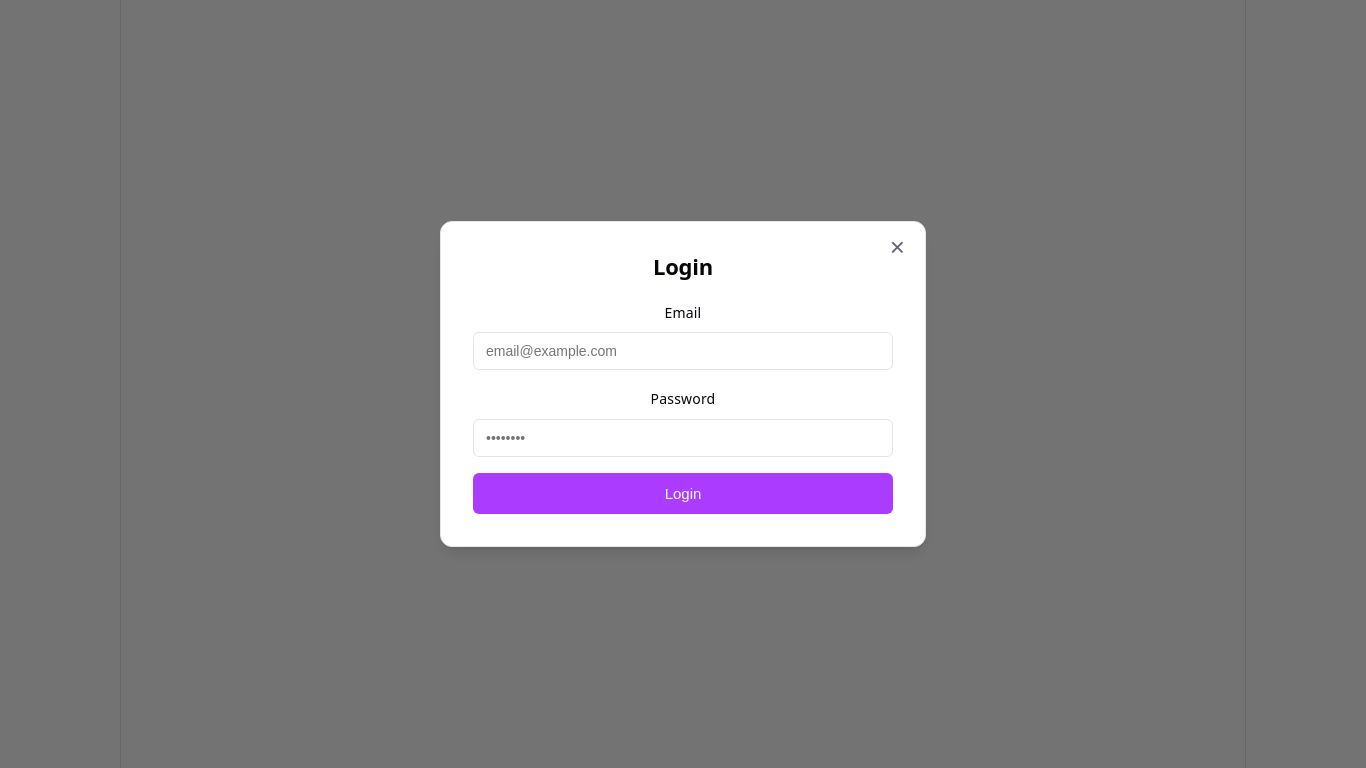
it: AuthModal — login mode › shows error message on login failure
The width and height of the screenshot is (1366, 768).
Type "a@b.com" into the field labelled "Email" at (683, 352), box [473, 332, 893, 370]
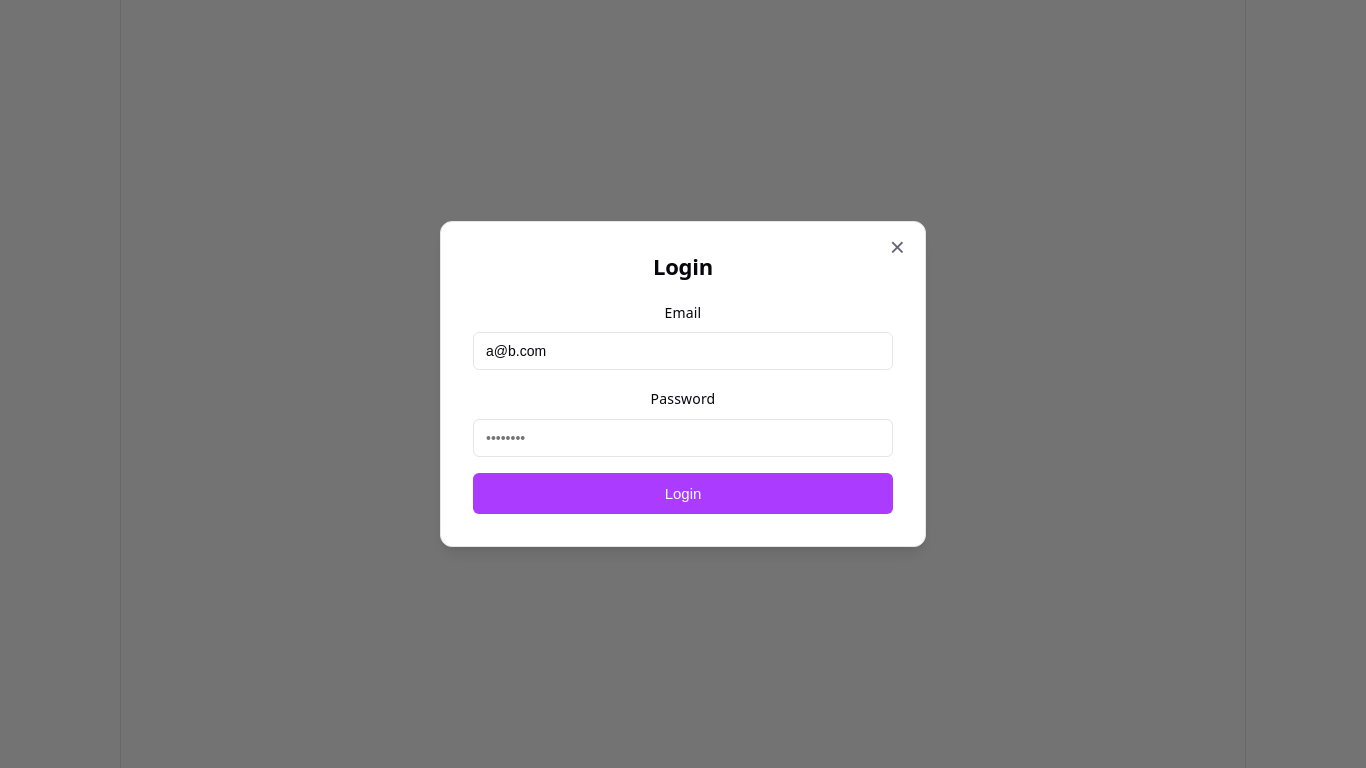
Type "wrong" into the password field labelled "Password" at (683, 438), box [473, 419, 893, 457]
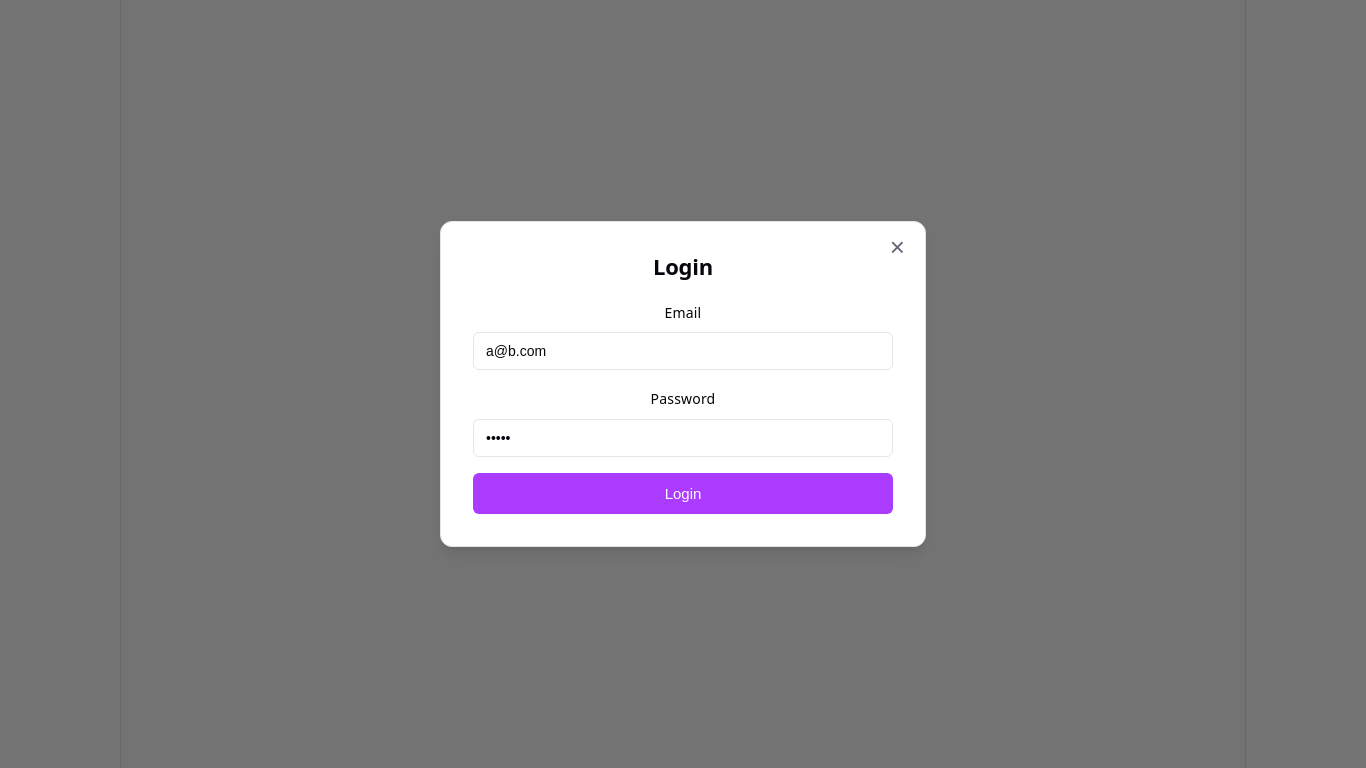
Click the button "Login" at (683, 493), box [473, 473, 893, 514]
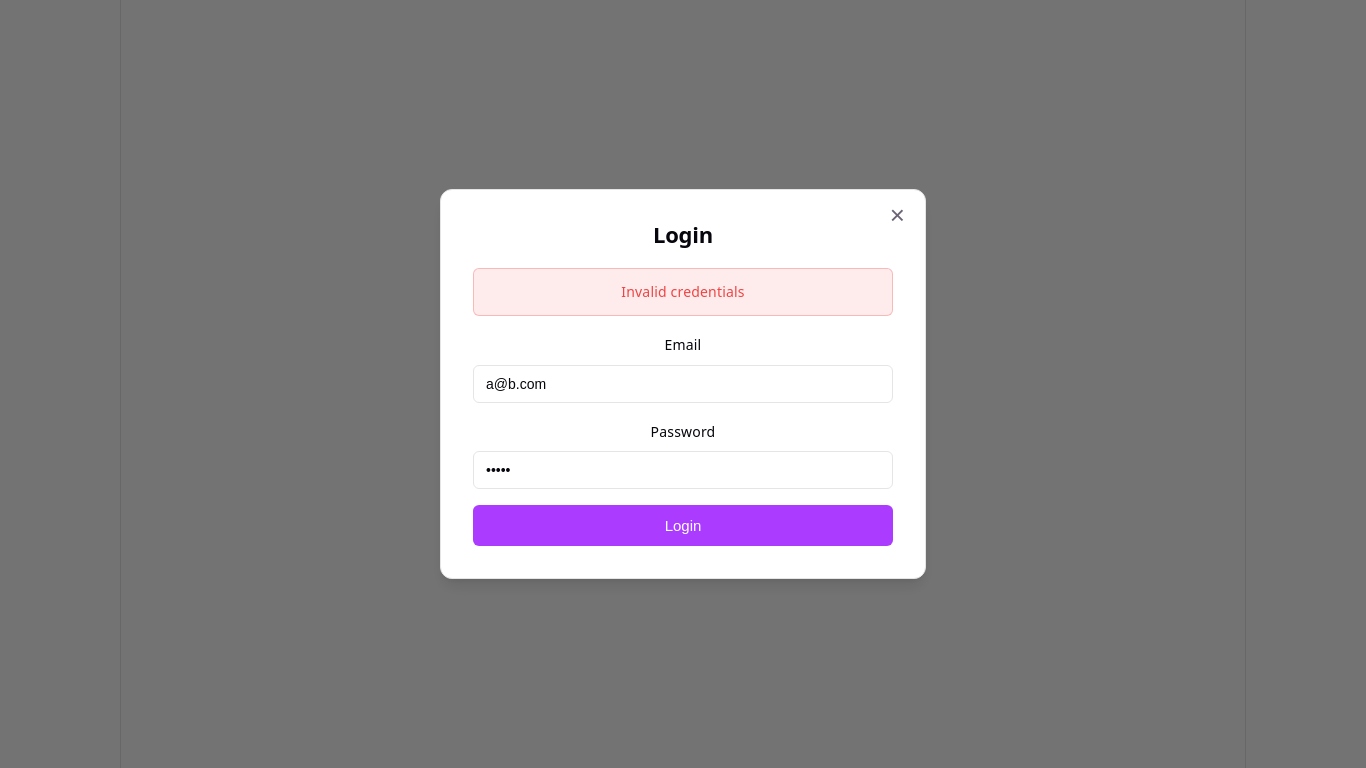
Expected: the message reads "Invalid credentials", [621, 282, 745, 301]
